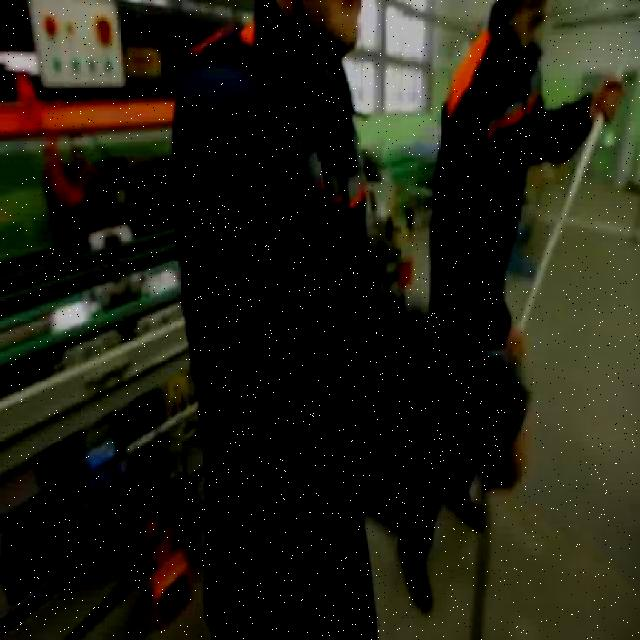Mask: (160, 0, 524, 638), (400, 18, 591, 580)
